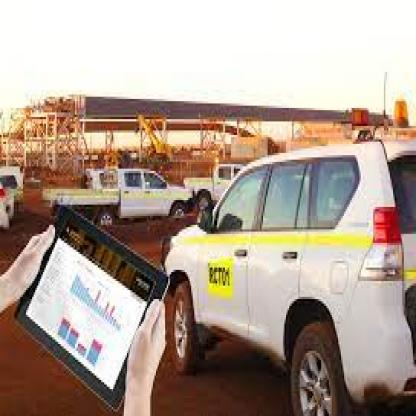light_vehicle: (148, 128, 414, 414)
